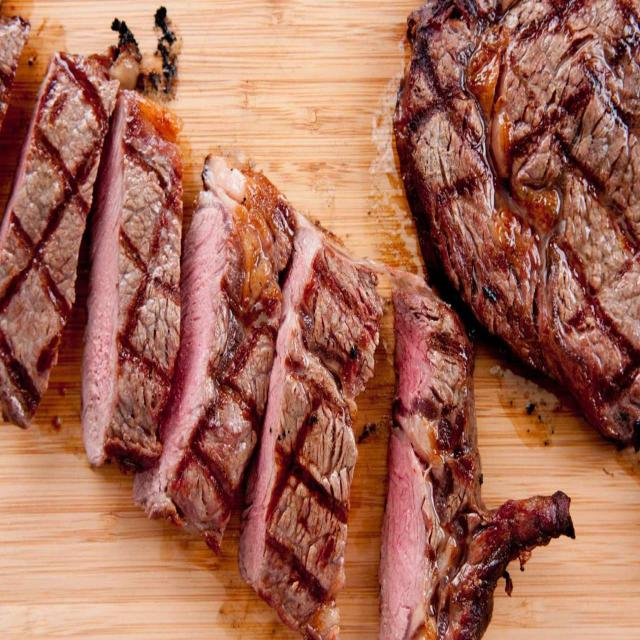carne de res: (390, 5, 640, 477), (178, 140, 375, 639), (2, 5, 191, 497), (377, 275, 590, 638)
